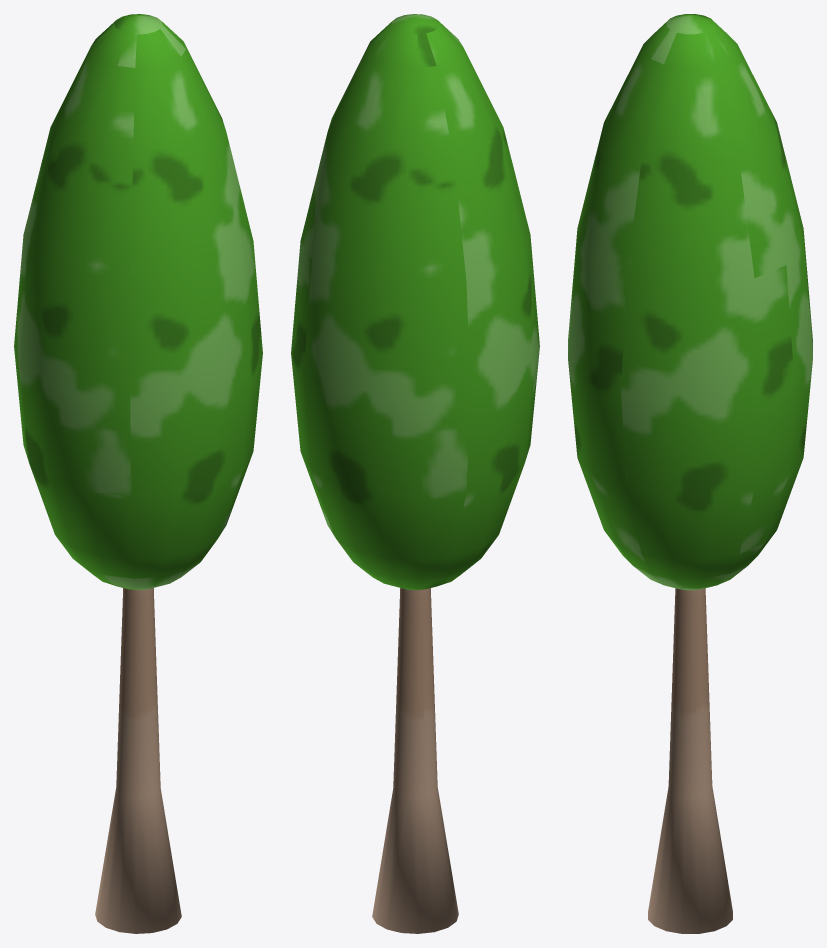
Rendered from Mod_Tree_01.fbx.
The picture shows the model from 3 angles, left to right: view 1: azimuth 30°, elevation 25°; view 2: azimuth 150°, elevation 25°; view 3: azimuth 270°, elevation 25°; orthographic projection.
Visible parts, largest first — view 1: Mod_Tree_01; view 2: Mod_Tree_01; view 3: Mod_Tree_01.
Part boxes in pixels (x1=…): Mod_Tree_01: x1=14, y1=14, x2=262, y2=933; Mod_Tree_01: x1=291, y1=14, x2=539, y2=933; Mod_Tree_01: x1=568, y1=14, x2=812, y2=933.
Size of the model in its own units: 98.19 by 398 by 98.19.
